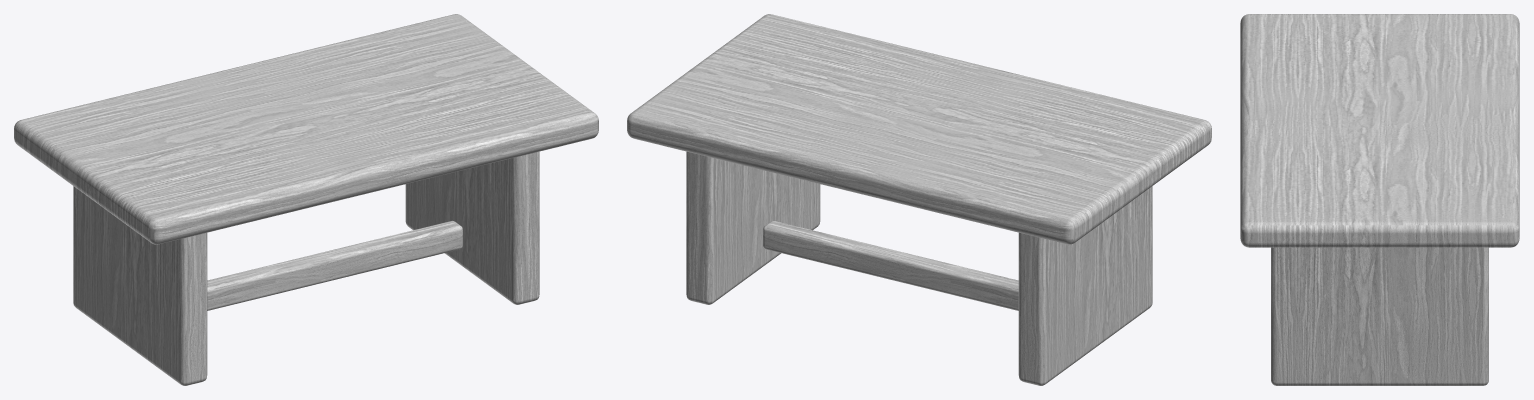
The model's file is coffee-table-1.0m.gltf.
3 views of the same model, side by side, from view 1: azimuth 30°, elevation 25°; view 2: azimuth 150°, elevation 25°; view 3: azimuth 270°, elevation 25° (orthographic). The views are drawn at different scales.
Visible parts, largest first — view 1: coffee-table; view 2: coffee-table; view 3: coffee-table.
Boxes of the visible parts, x1,y1,x2,y2 form: coffee-table: (14, 14, 598, 385); coffee-table: (627, 14, 1211, 385); coffee-table: (1240, 14, 1519, 385).
Bounding box in the file's own units: 1 × 0.4 × 0.55.
Materials: 1 (1 with a texture image).
